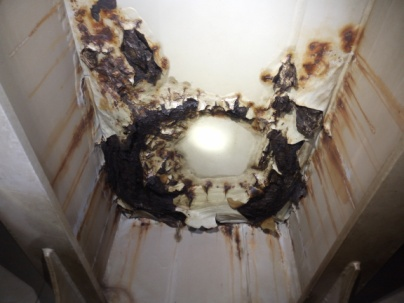corrosion: (85, 88, 199, 242), (311, 55, 399, 204), (65, 7, 178, 104), (220, 126, 317, 235), (256, 32, 326, 100), (42, 111, 88, 197), (188, 88, 261, 127), (114, 227, 156, 293), (268, 101, 333, 141), (328, 21, 374, 60)
